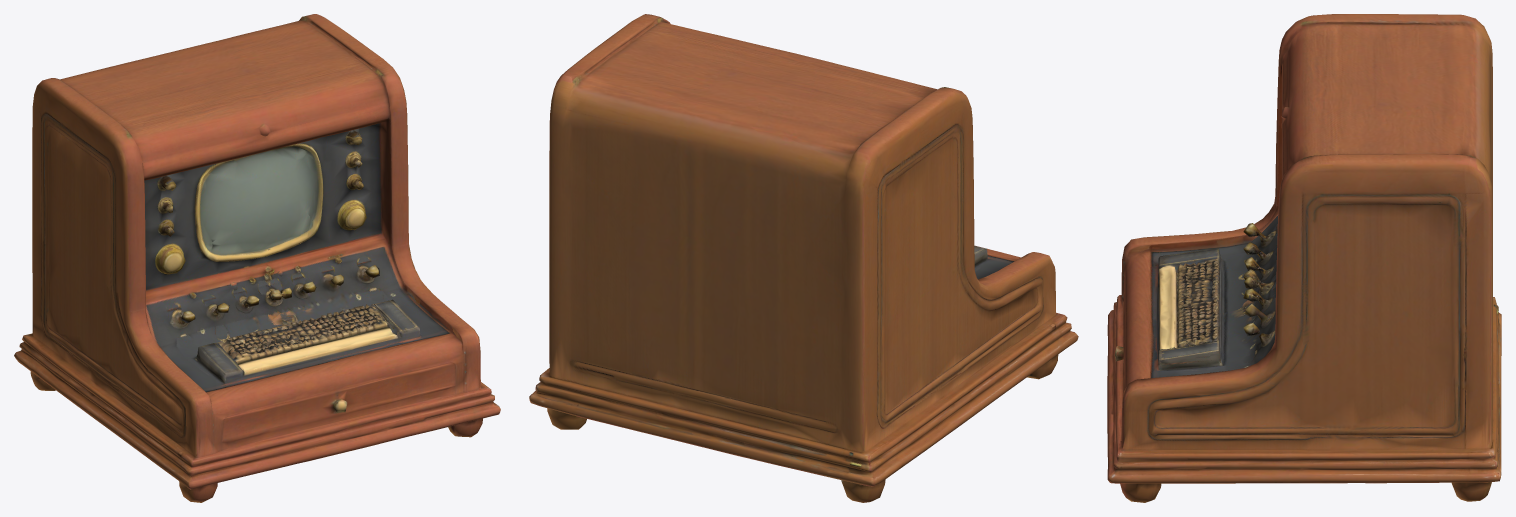
The model's file is computer.glb.
3 views of the same model, side by side, from view 1: azimuth 30°, elevation 25°; view 2: azimuth 150°, elevation 25°; view 3: azimuth 270°, elevation 25° (orthographic). The views are drawn at different scales.
Size of the model in its own units: 2 by 1.9 by 2.
1 material, 1 textured.
